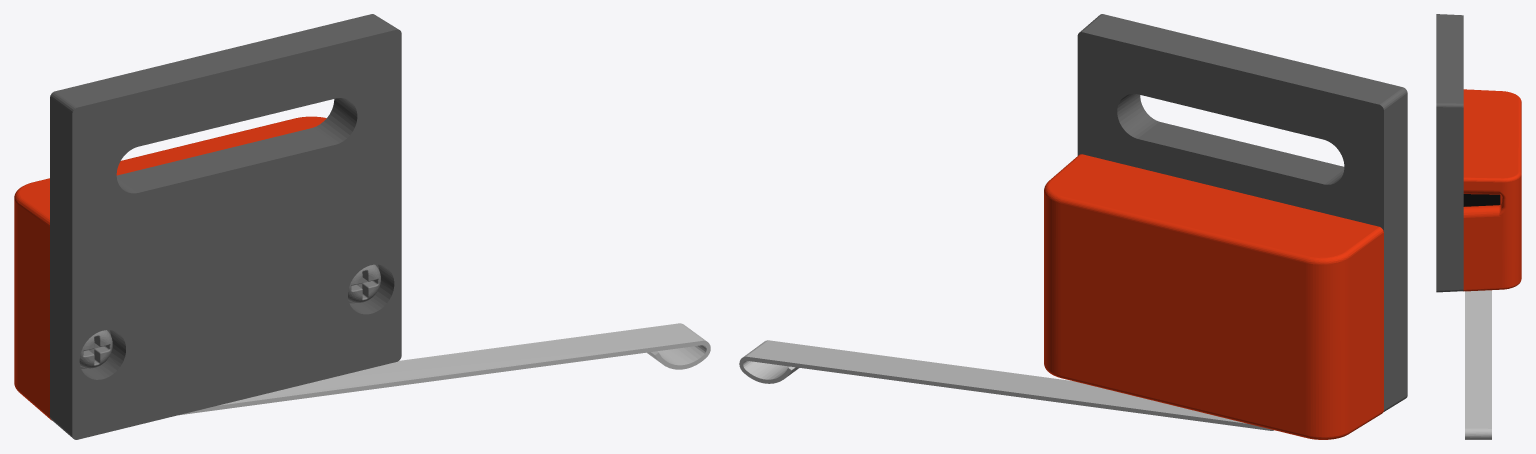
The model's file is Limit_Switch__276-2174_.glb.
3 views of the same model, side by side, from view 1: azimuth 30°, elevation 25°; view 2: azimuth 150°, elevation 25°; view 3: azimuth 270°, elevation 25° (orthographic). The views are drawn at different scales.
Parts seen in each view (by area): view 1: Limit Switch (276-2174); view 2: Limit Switch (276-2174); view 3: Limit Switch (276-2174).
Boxes of the visible parts, bbox=[...] form: Limit Switch (276-2174): bbox=[14, 14, 710, 439]; Limit Switch (276-2174): bbox=[739, 14, 1407, 439]; Limit Switch (276-2174): bbox=[1436, 14, 1521, 439].
Size of the model in its own units: 2.53 by 1.58 by 0.4941.
